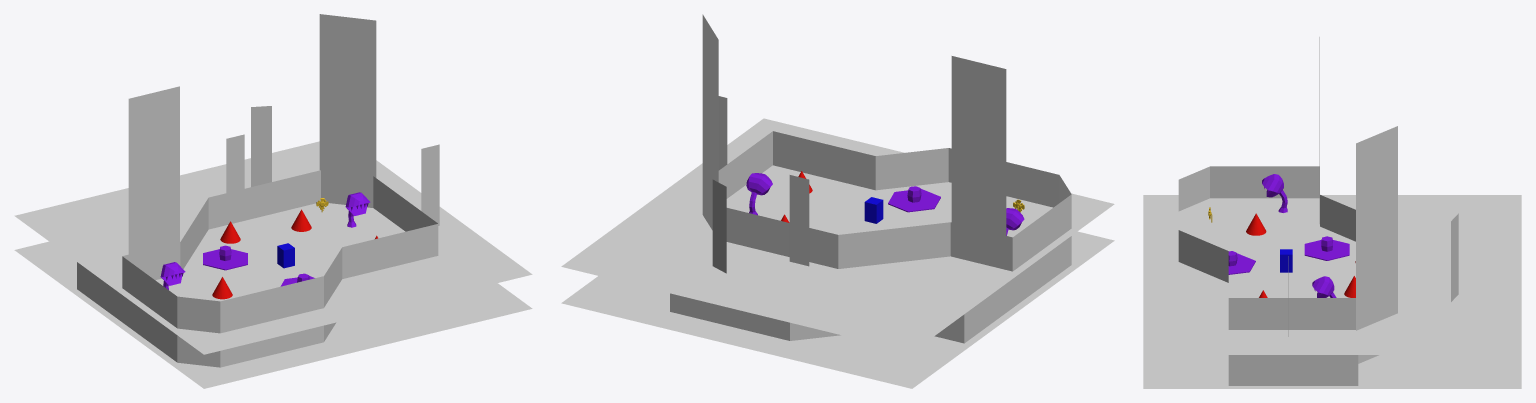
File: N7-Pantano.fbx
3 renders of one model, left to right at view 1: azimuth 30°, elevation 25°; view 2: azimuth 150°, elevation 25°; view 3: azimuth 270°, elevation 25°, orthographic. The views are drawn at different scales.
Parts seen in each view (by area): view 1: Base.007, Limite 1-7, Arbol Sequoia.004, Arbol Sequoia.005, Arbol.019, Arbol.021, Arbol.020, Barriles en Barro.013, Planta Carnivora.006, Planta Carnivora.005; view 2: Base.007, Limite 1-7, Arbol Sequoia.005, Arbol Sequoia.004, Arbol.020, Arbol.019, Barriles en Barro.014, Arbol.021, Planta Carnivora.006, Jugador.008; view 3: Base.007, Limite 1-7, Arbol Sequoia.004, Barriles en Barro.013, Arbol.019, Planta Carnivora.005, Barriles en Barro.014, Planta Carnivora.006.
Part boxes in pixels (box(x1,y1,x2,y2)): Base.007: box(14, 141, 532, 388); Limite 1-7: box(122, 170, 438, 333); Arbol Sequoia.004: box(319, 14, 376, 207); Arbol Sequoia.005: box(128, 86, 179, 280); Arbol.019: box(251, 106, 271, 186); Arbol.021: box(421, 144, 439, 225); Arbol.020: box(226, 134, 244, 192); Barriles en Barro.013: box(203, 245, 247, 270); Planta Carnivora.006: box(345, 192, 370, 227); Planta Carnivora.005: box(160, 262, 185, 289); Base.007: box(561, 118, 1114, 388); Limite 1-7: box(703, 131, 1071, 271); Arbol Sequoia.005: box(951, 56, 1006, 235); Arbol Sequoia.004: box(702, 14, 718, 230); Arbol.020: box(789, 175, 809, 266); Arbol.019: box(712, 179, 726, 273); Barriles en Barro.014: box(888, 186, 940, 212); Arbol.021: box(718, 96, 727, 170); Planta Carnivora.006: box(746, 173, 772, 215); Jugador.008: box(864, 197, 883, 223); Base.007: box(1143, 195, 1521, 388); Limite 1-7: box(1178, 166, 1372, 329); Arbol Sequoia.004: box(1356, 126, 1397, 357); Barriles en Barro.013: box(1304, 236, 1349, 260); Arbol.019: box(1451, 213, 1458, 301); Planta Carnivora.005: box(1262, 174, 1287, 212); Barriles en Barro.014: box(1228, 251, 1255, 274); Planta Carnivora.006: box(1312, 276, 1336, 297).
Size of the model in its own units: 2013 by 1331 by 2013.
